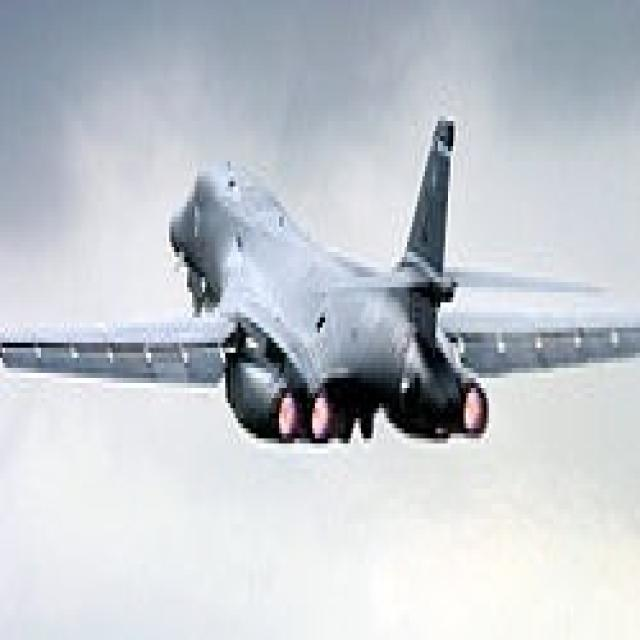B1: (12, 47, 640, 530)
